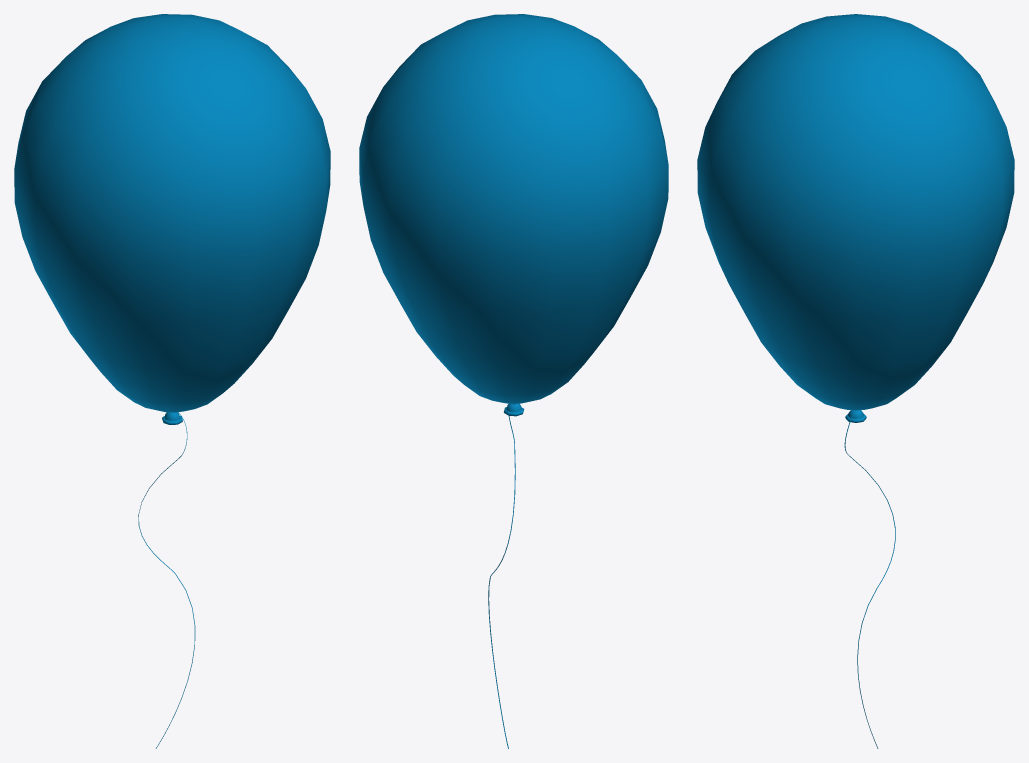
Rendered from Balloon.gltf.
3 views of the same model, side by side, from view 1: azimuth 30°, elevation 25°; view 2: azimuth 150°, elevation 25°; view 3: azimuth 270°, elevation 25° (orthographic). The views are drawn at different scales.
Visible parts, largest first — view 1: node-0; view 2: node-0; view 3: node-0.
Boxes of the visible parts, x1,y1,x2,y2 form: node-0: (14, 14, 330, 748); node-0: (359, 14, 668, 748); node-0: (697, 14, 1014, 748).
Size of the model in its own units: 0.2648 by 0.664 by 0.2648.
